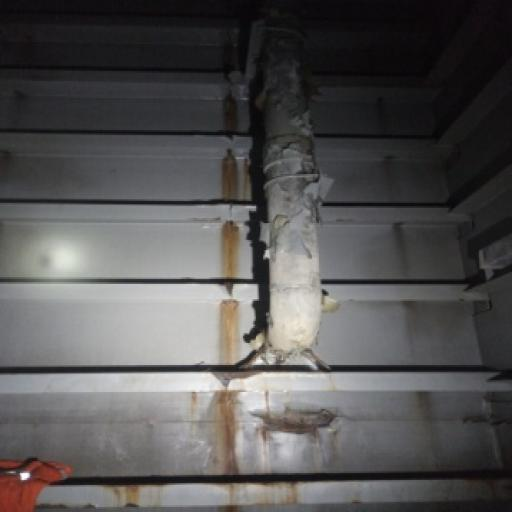Detect-rust-on-metal-surfaces: (222, 44, 318, 510)
